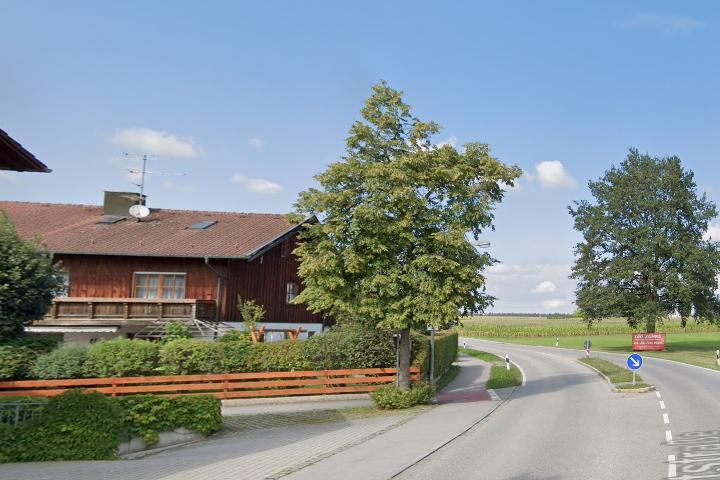traffic_sign: (627, 354, 642, 369)
